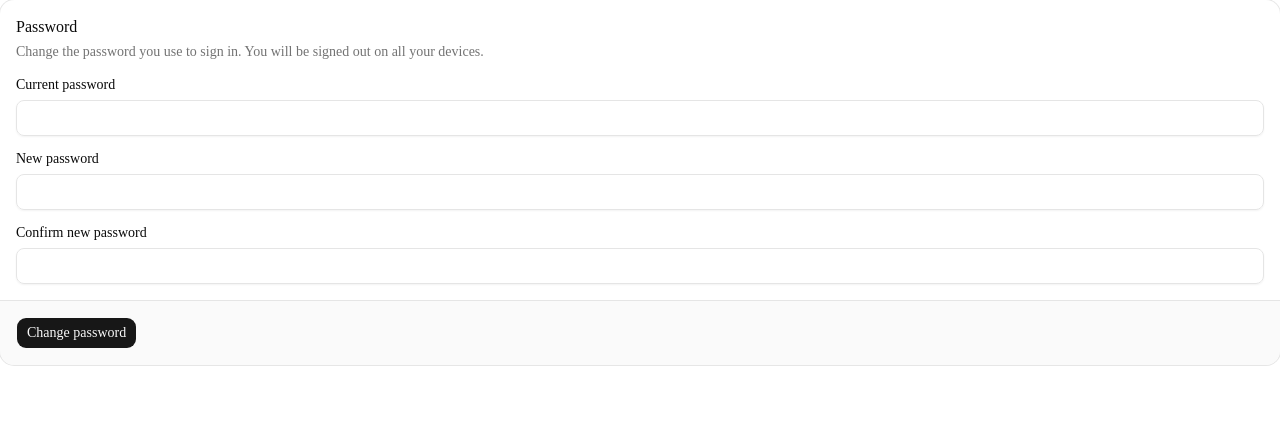
Test: PasswordCard › reusing the current password surfaces the backend rejection
Type "s3cret-password" into the password field labelled "Current password" at {"x": 640, "y": 118}, box [16, 100, 1264, 136]
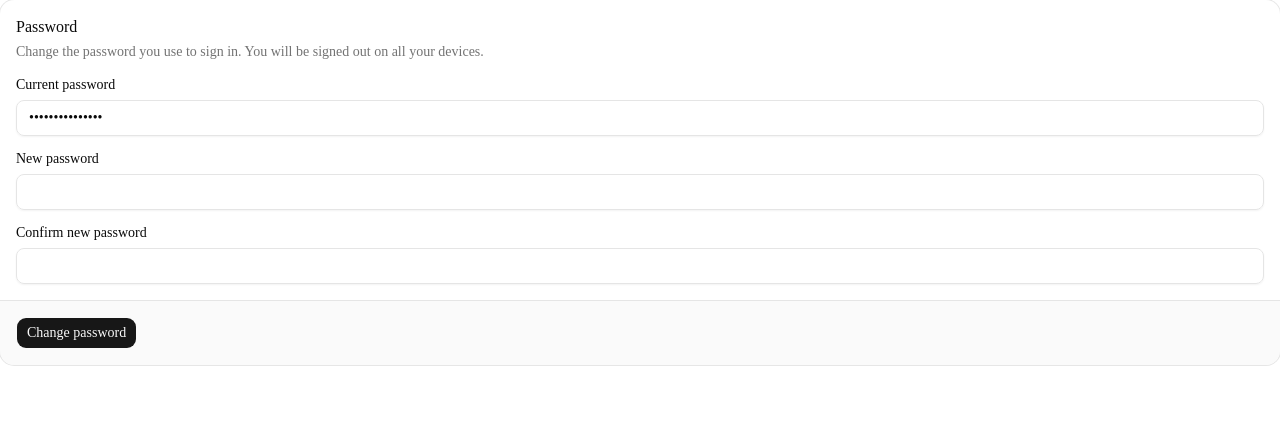
Type "n3w-s3cret-password" into the password field labelled "New password" at {"x": 640, "y": 192}, box [16, 174, 1264, 210]
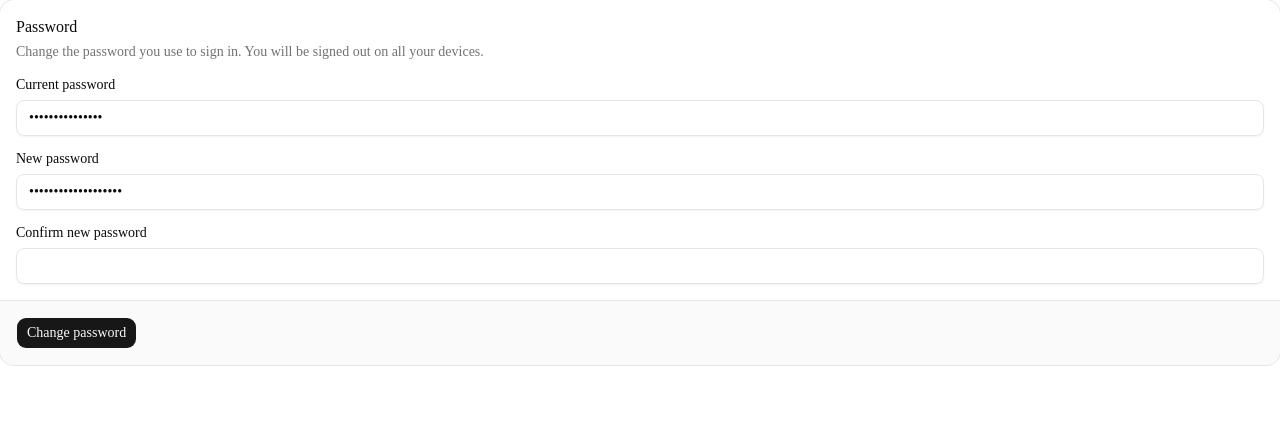
Type "n3w-s3cret-password" into the password field labelled "Confirm new password" at {"x": 640, "y": 266}, box [16, 248, 1264, 284]
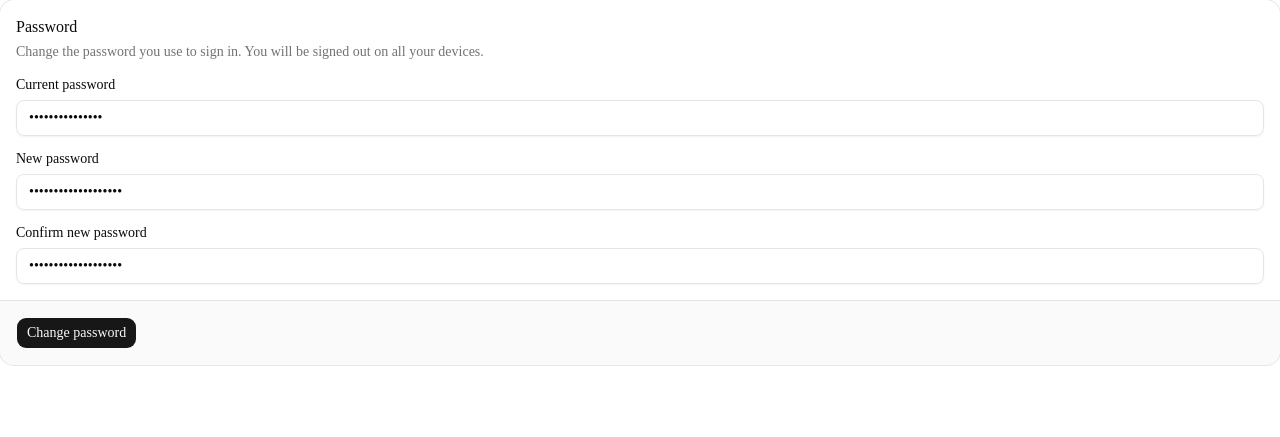
Click the button "Change password" at {"x": 77, "y": 333}, box [16, 317, 137, 349]
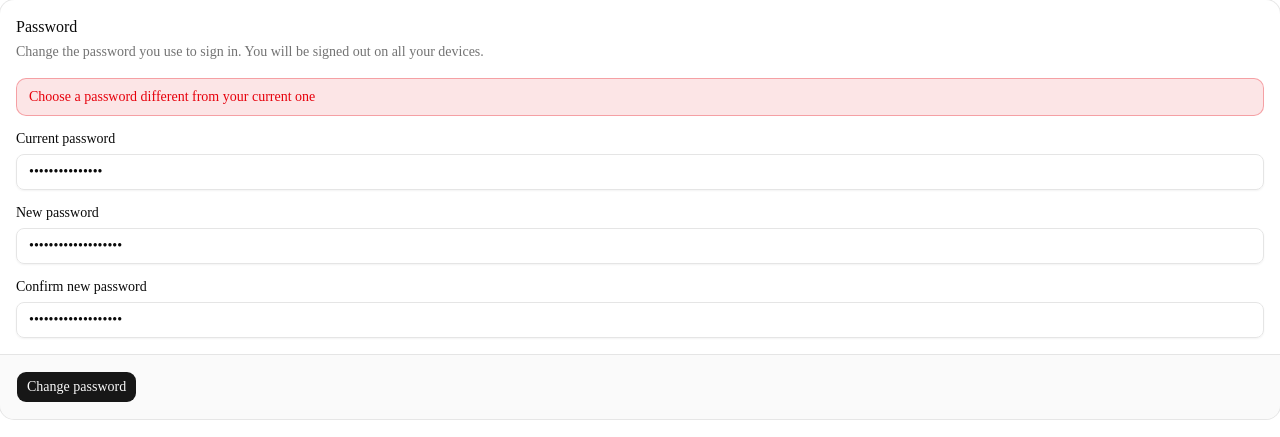
Now the text "Choose a password different from your current one" is shown, box [16, 78, 1264, 116]
